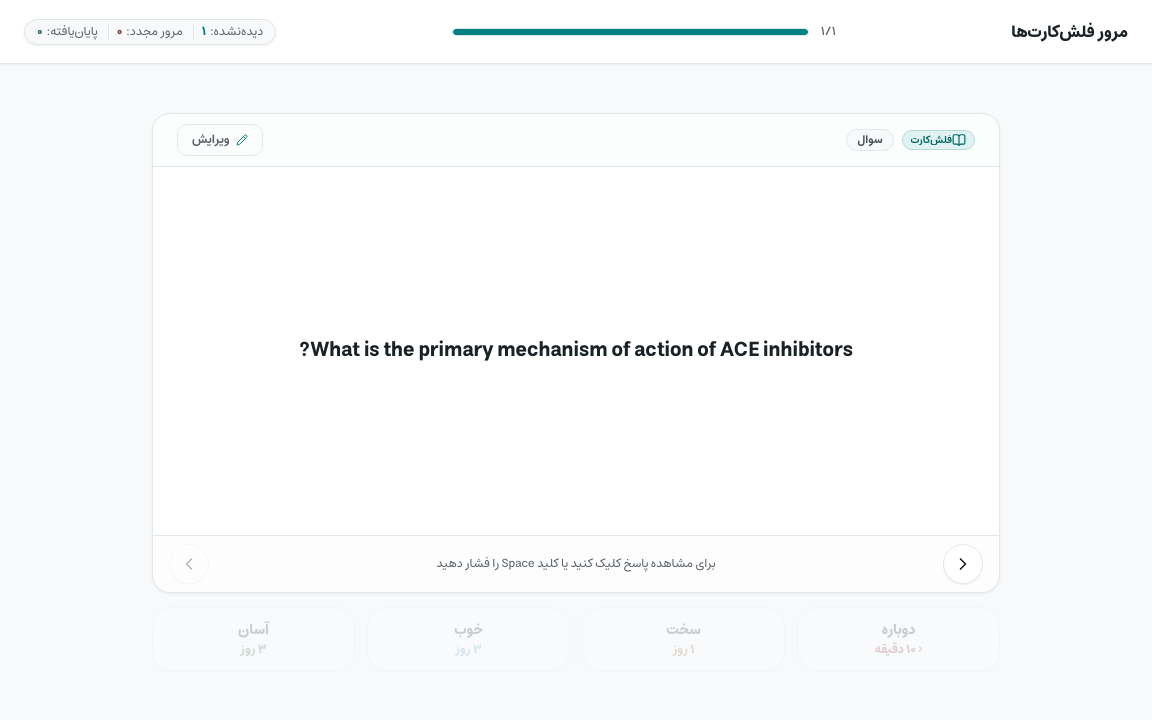
Test: Flashcard Experience Flow › renders due card, flips, and submits rating
Note: Flip card
Click the text "What is the primary mechanism of action of ACE inhibitors?".
click(305, 350)  # box top-left (299, 333), bottom-right (853, 368)
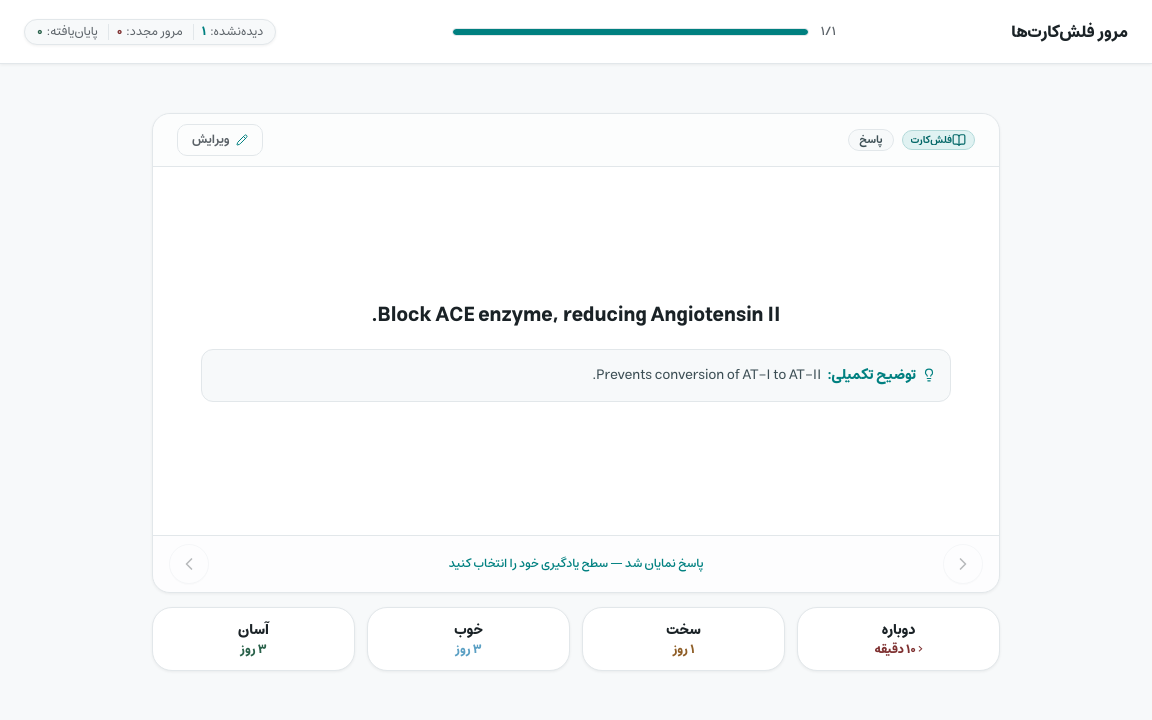
Expected: the text "Block ACE enzyme, reducing Angiotensin II." is shown, top-left (372, 298), bottom-right (780, 333)
Click the text "خوب".
click(468, 630)  # box top-left (454, 620), bottom-right (483, 640)
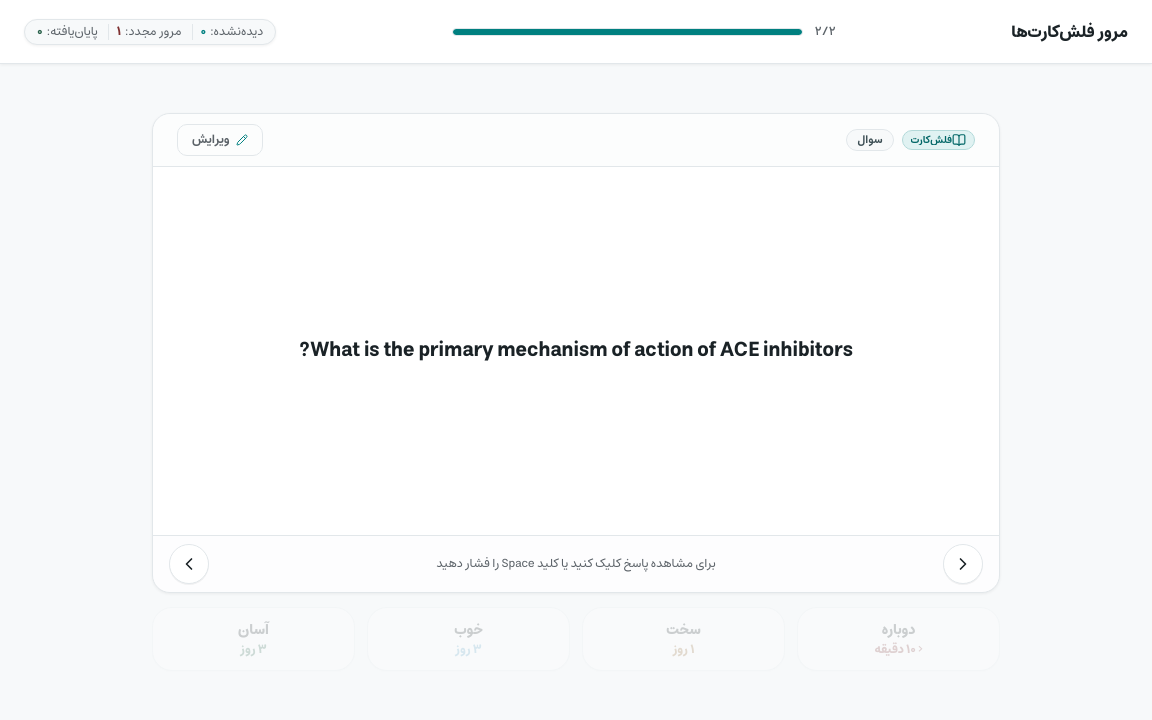
Expected: the text "What is the primary mechanism of action of ACE inhibitors?" is shown
Note: Flip again
Click the text "What is the primary mechanism of action of ACE inhibitors?".
click(305, 350)  # box top-left (299, 333), bottom-right (853, 368)
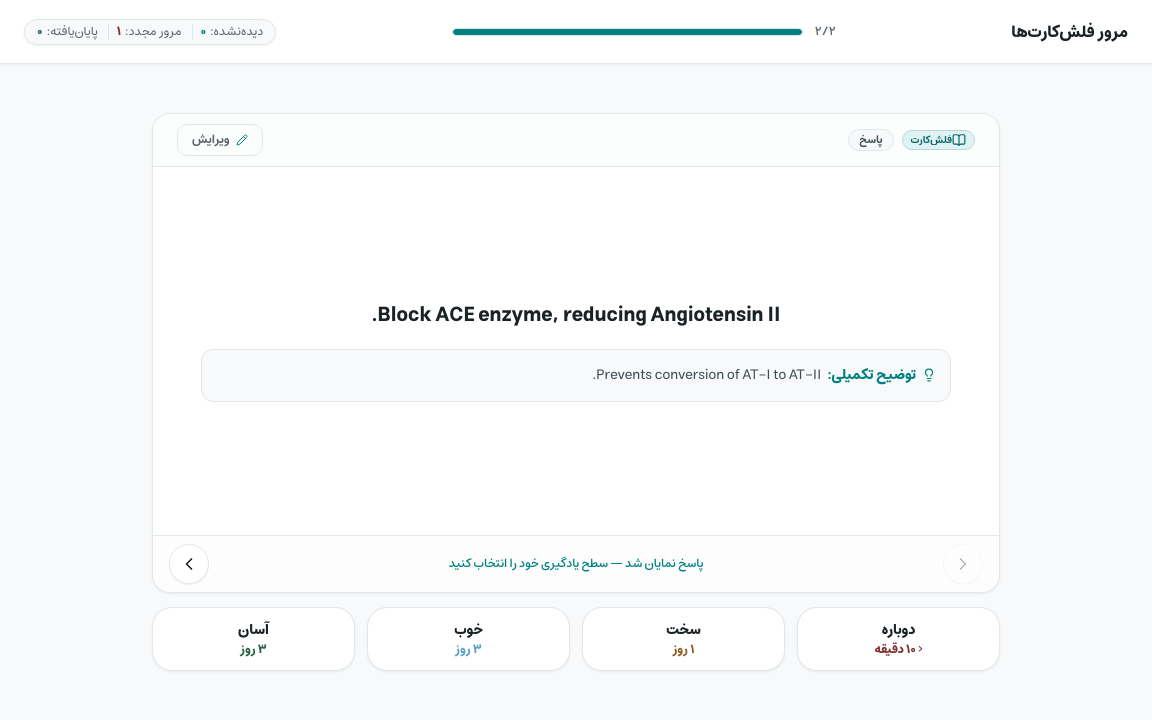
Click the text "خوب".
click(468, 630)  # box top-left (454, 620), bottom-right (483, 640)
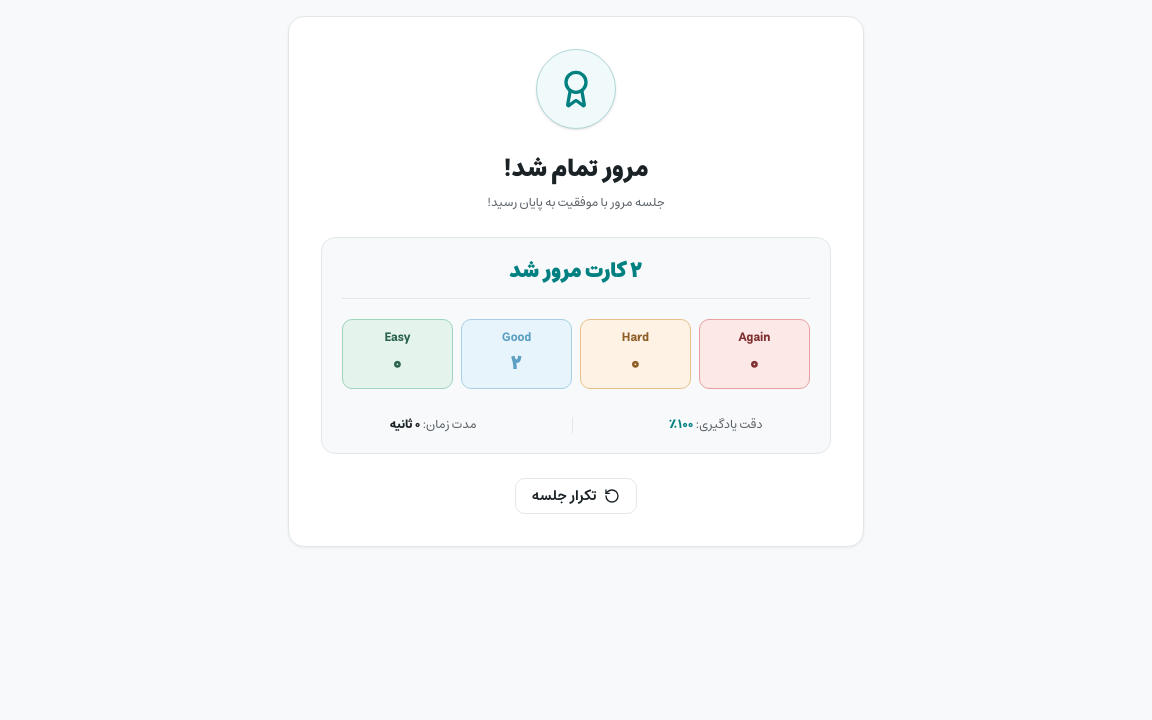
Expected: the text "جلسه مرور با موفقیت به پایان رسید!" is shown, top-left (487, 192), bottom-right (665, 213)
